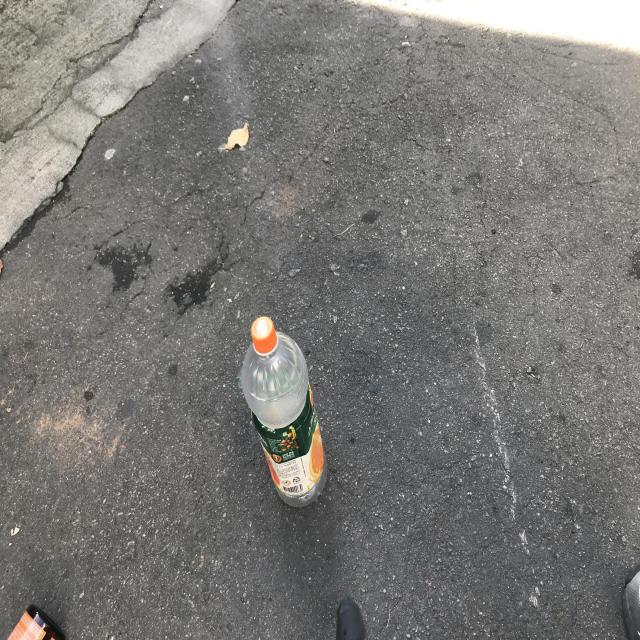plastic: (242, 316, 327, 507)
